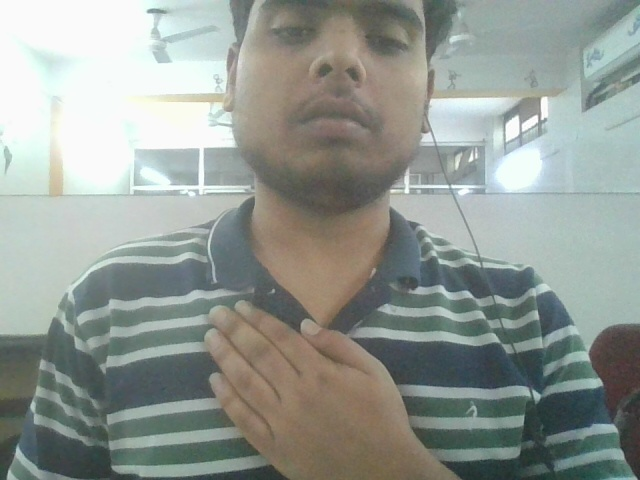Please: (168, 289, 468, 477)
